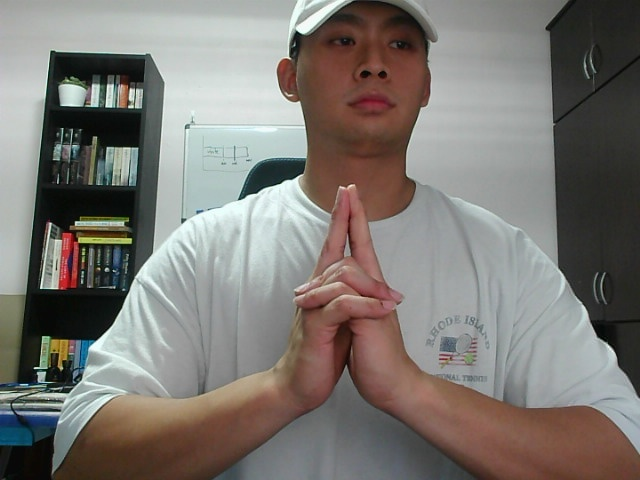Tiger: (273, 167, 434, 434)
